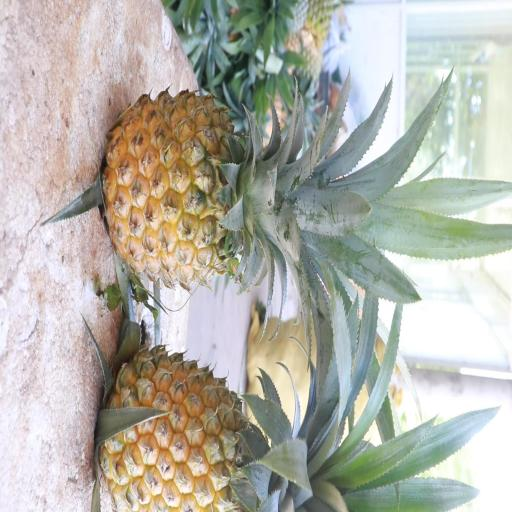Pineapple - v8 v1: (99, 83, 331, 295), (95, 339, 347, 512)
